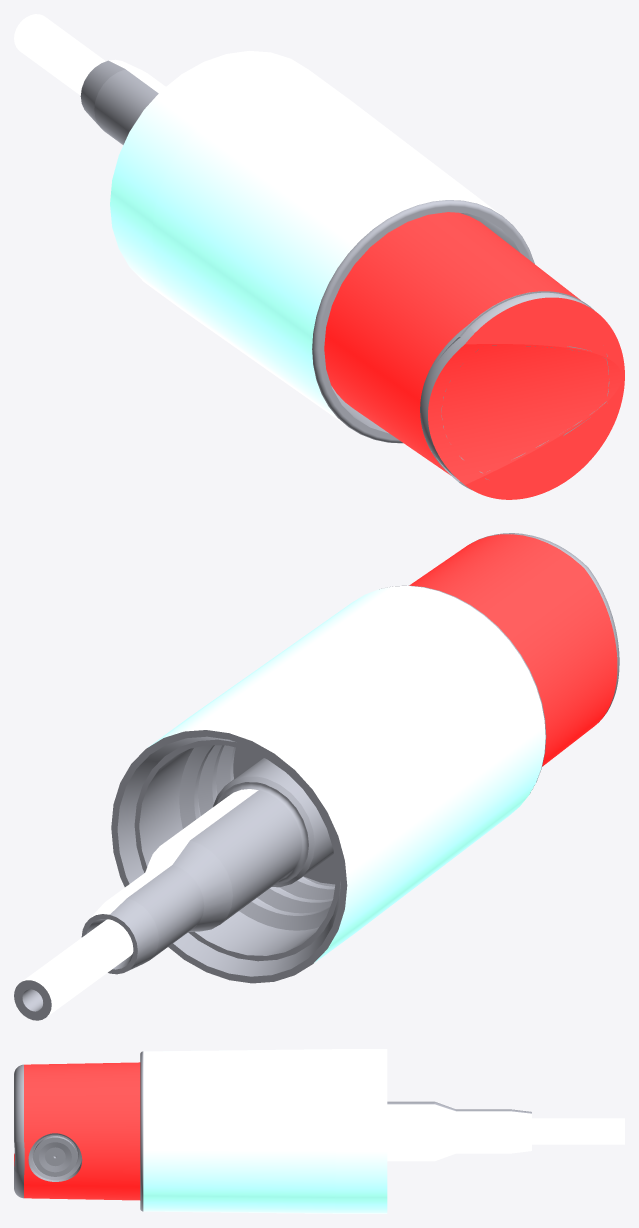
File: pumpN!.glb
The picture shows the model from 3 angles, top to bottom: view 1: azimuth 30°, elevation 25°; view 2: azimuth 150°, elevation 25°; view 3: azimuth 270°, elevation 25°; orthographic projection. The views are drawn at different scales.
Visible parts, largest first — view 1: empdx5009aSLDPRT; view 2: empdx5009aSLDPRT; view 3: empdx5009aSLDPRT.
Part boxes in pixels (x1,y1,x2,y2): empdx5009aSLDPRT: (14,14,624,499); empdx5009aSLDPRT: (14,533,619,1020); empdx5009aSLDPRT: (14,1049,624,1213).
Size of the model in its own units: 0.016 by 0.016 by 0.0591.
